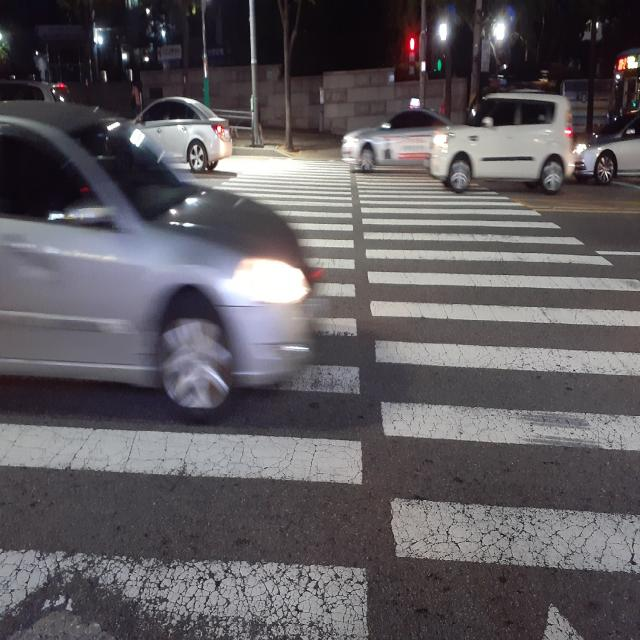빨간불: (408, 36, 416, 76)
횡단보도: (0, 153, 639, 639)
